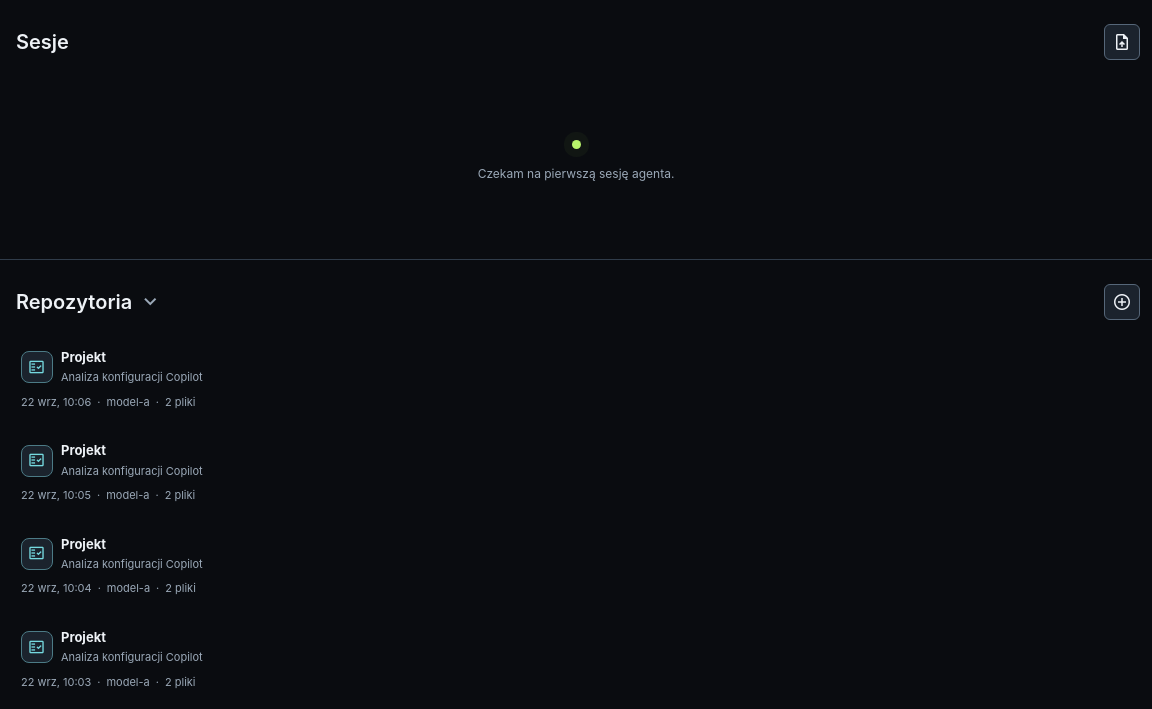
Test: SessionSidebarComponent › shows saved analyses as direct session-like cards in groups of five
Click the 1st button with class "repository-item" at (37,367), box top-left (8, 336), bottom-right (1144, 423)
(page scrolled)
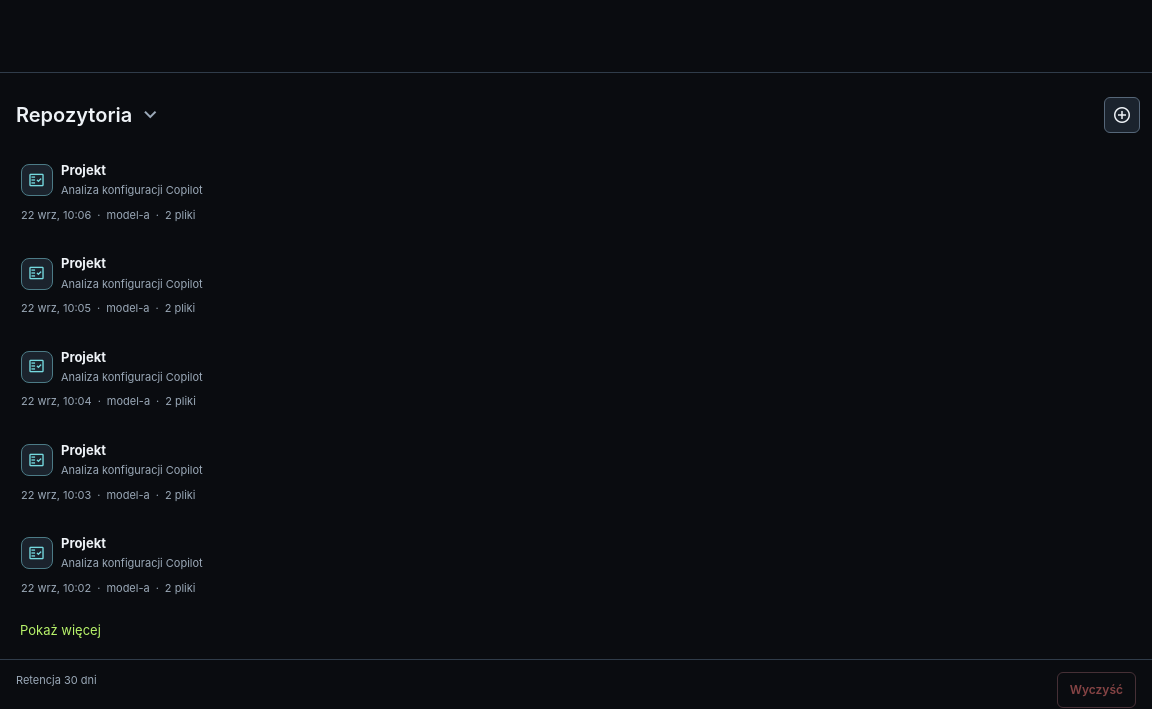
Click the button with class "show-more" at (60,630), box top-left (8, 615), bottom-right (1144, 647)
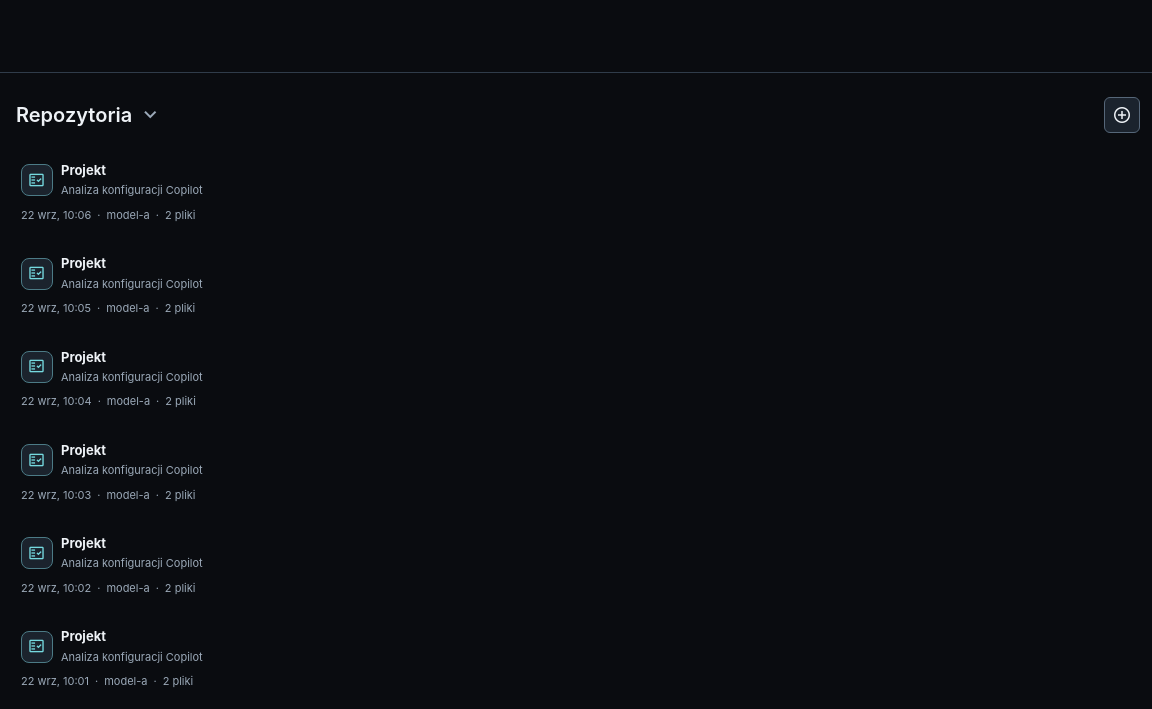
Result: the number of buttons with class "repository-item" is 7
Result: the button with class "show-more" is gone
